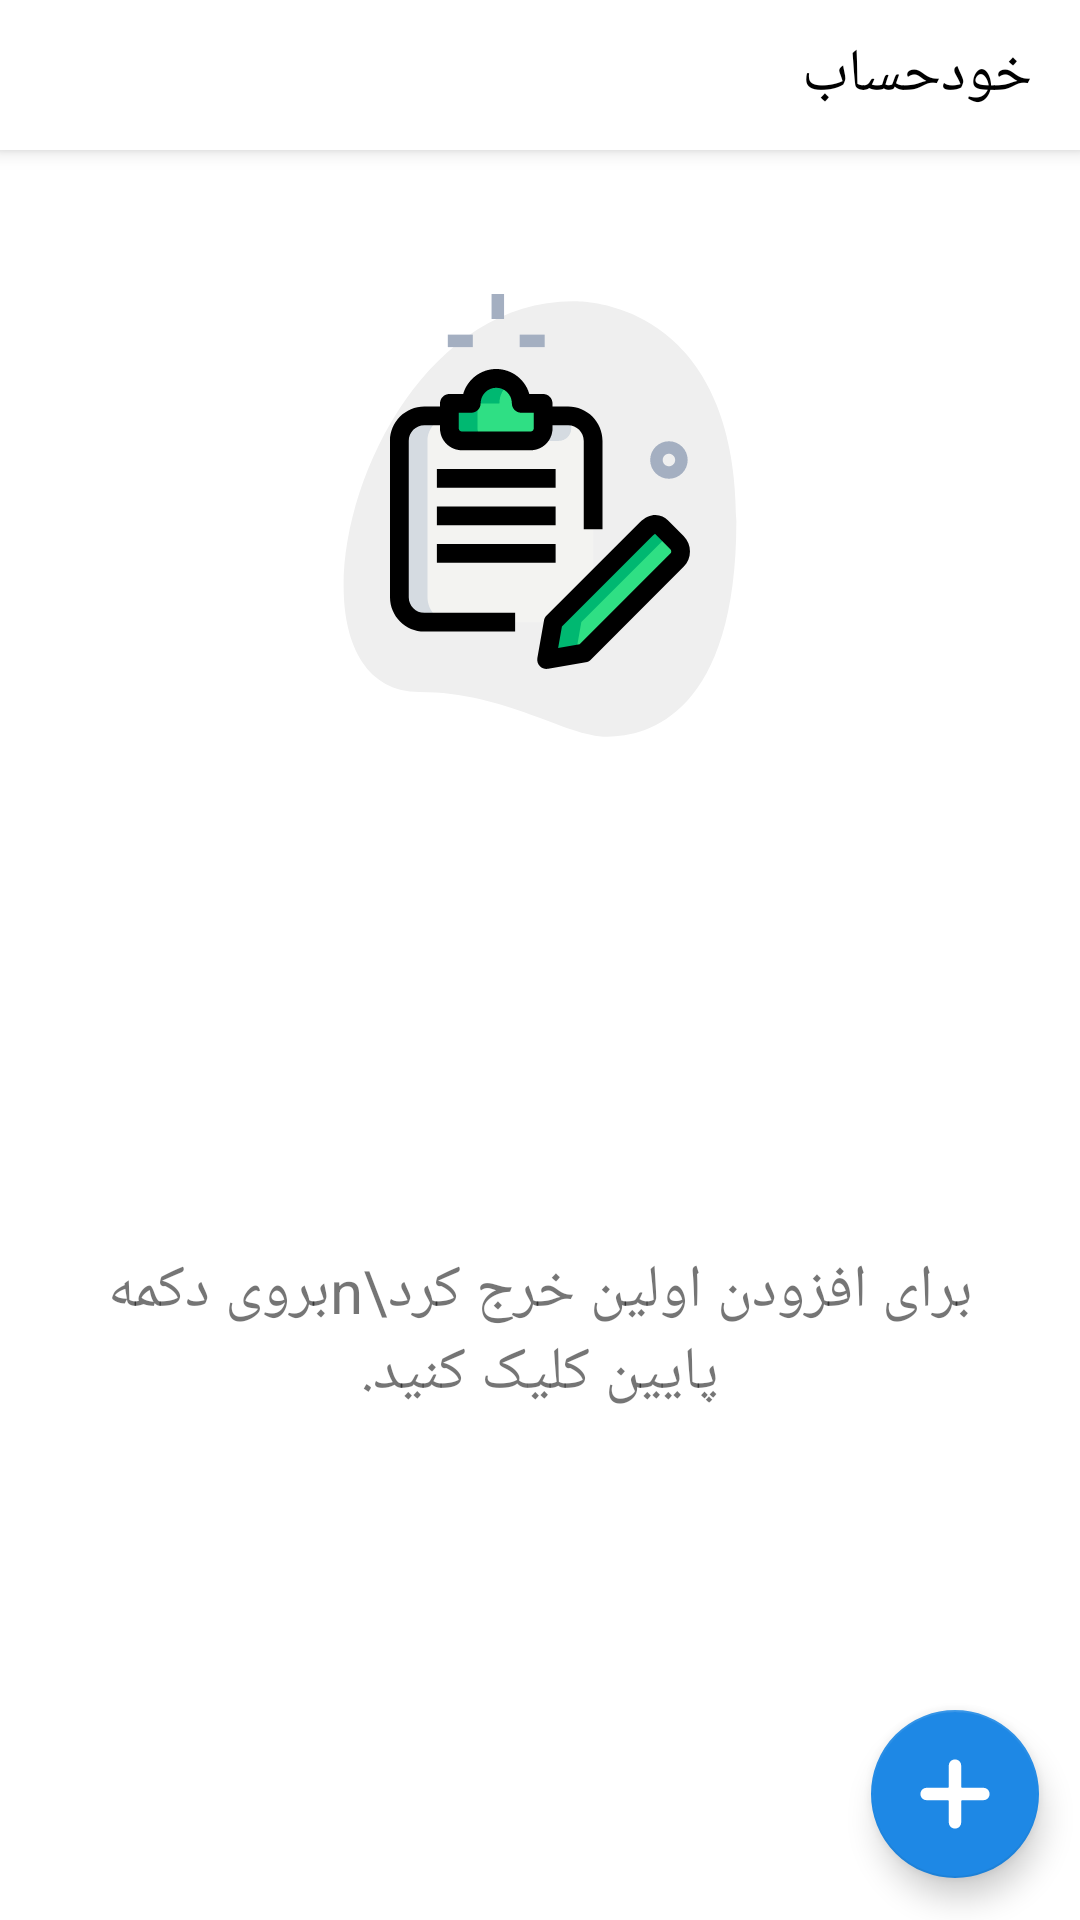

Named icons in this screenshot (1080w x 1920h) and their bounding boxes, Rect(x1, y1, x2, y2):
plus: Rect(871, 1710, 1039, 1878)
